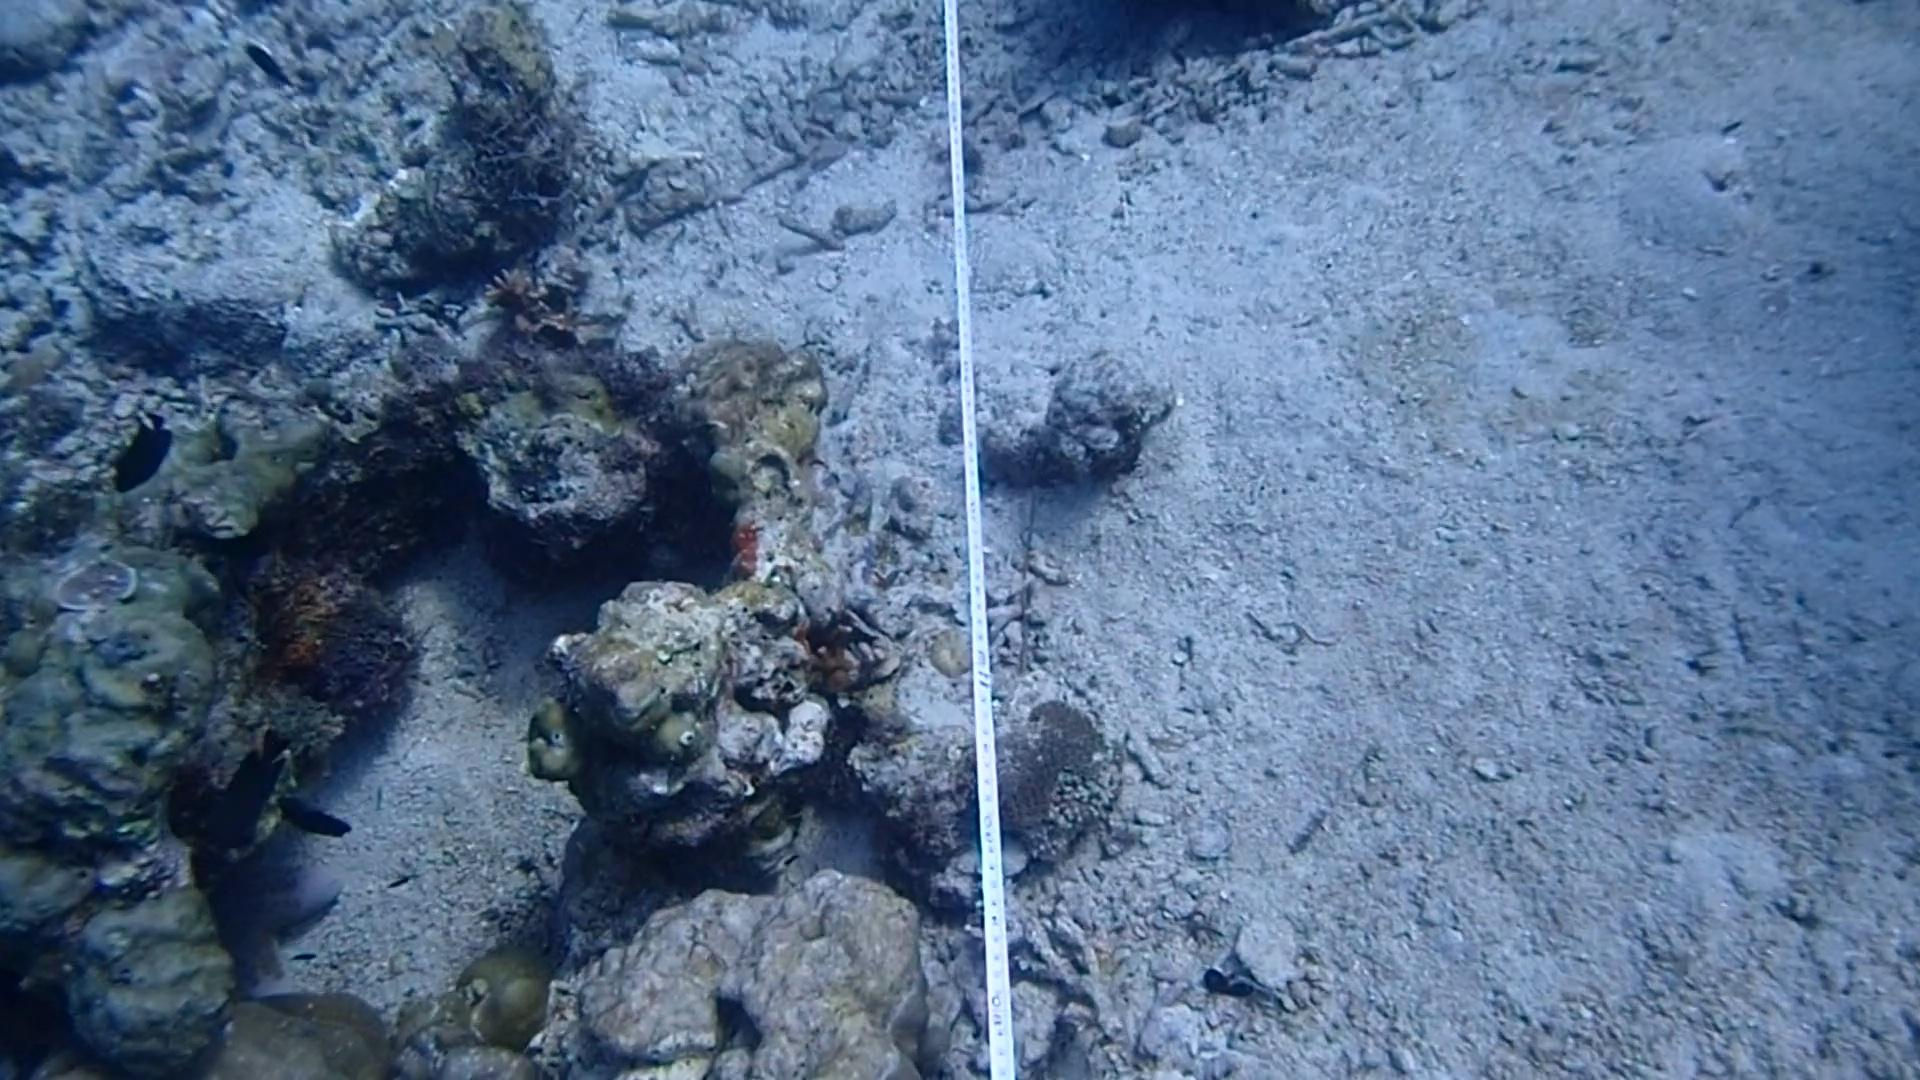Dark Fish: (200, 708, 303, 860), (95, 398, 185, 510), (260, 786, 364, 858), (233, 24, 294, 98)
